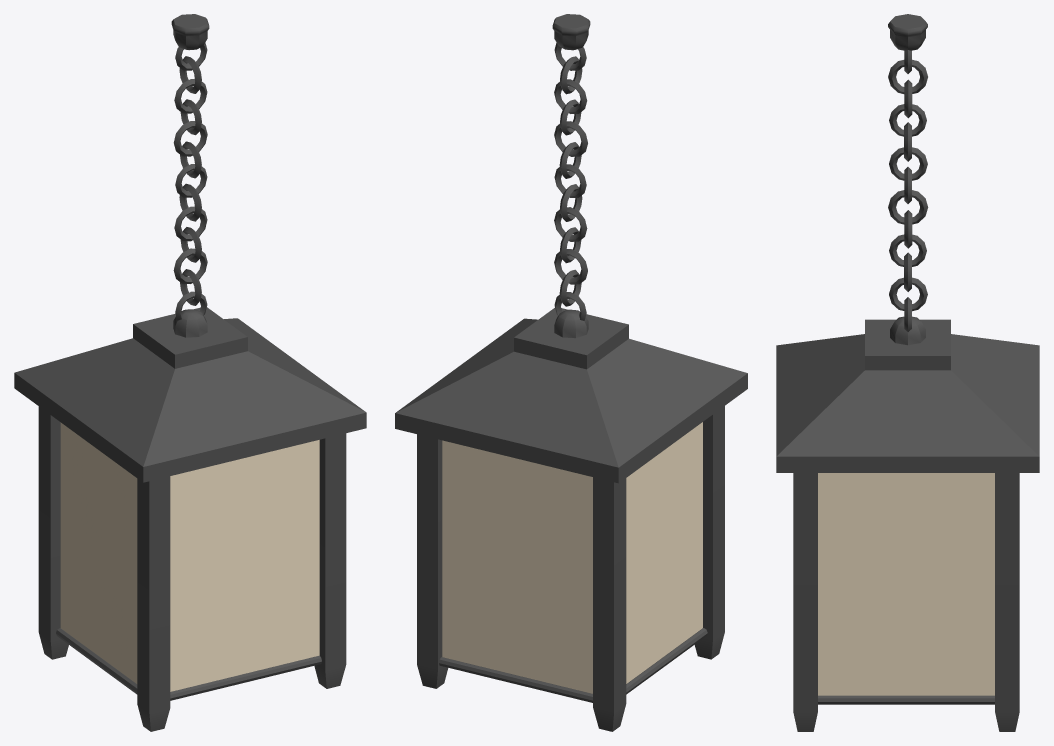
Rendered from sh_blend_swap_cc_0_outdoorlamp.glb.
3 renders of one model, left to right at view 1: azimuth 30°, elevation 25°; view 2: azimuth 150°, elevation 25°; view 3: azimuth 270°, elevation 25°, orthographic. The views are drawn at different scales.
Bounding box in the file's own units: 0.213 × 0.591 × 0.213.
